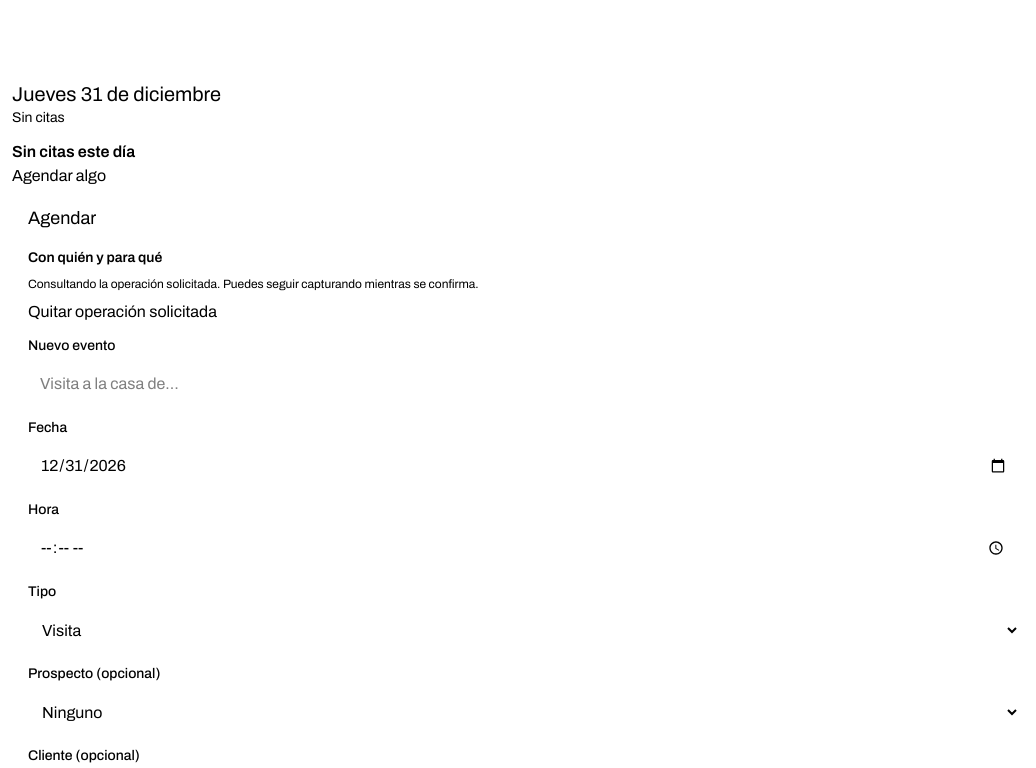
it: a failed URL expediente lookup exposes error retry and explicit withdrawal
The width and height of the screenshot is (1036, 768).
(page scrolled)
Type "Visita por recuperar" into the field labelled "Nuevo evento" at [524, 384], box x1=28 y1=362 x2=1020 y2=406
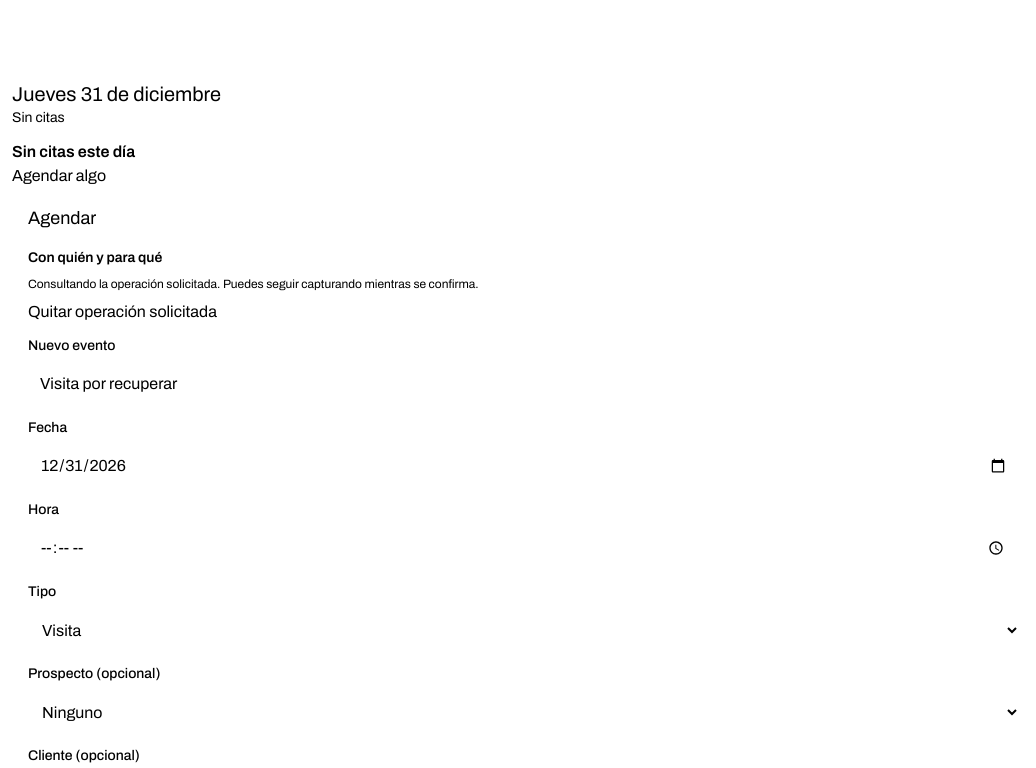
Type "2026-11-20" into the date field labelled "Fecha" at [524, 466], box x1=28 y1=444 x2=1020 y2=488
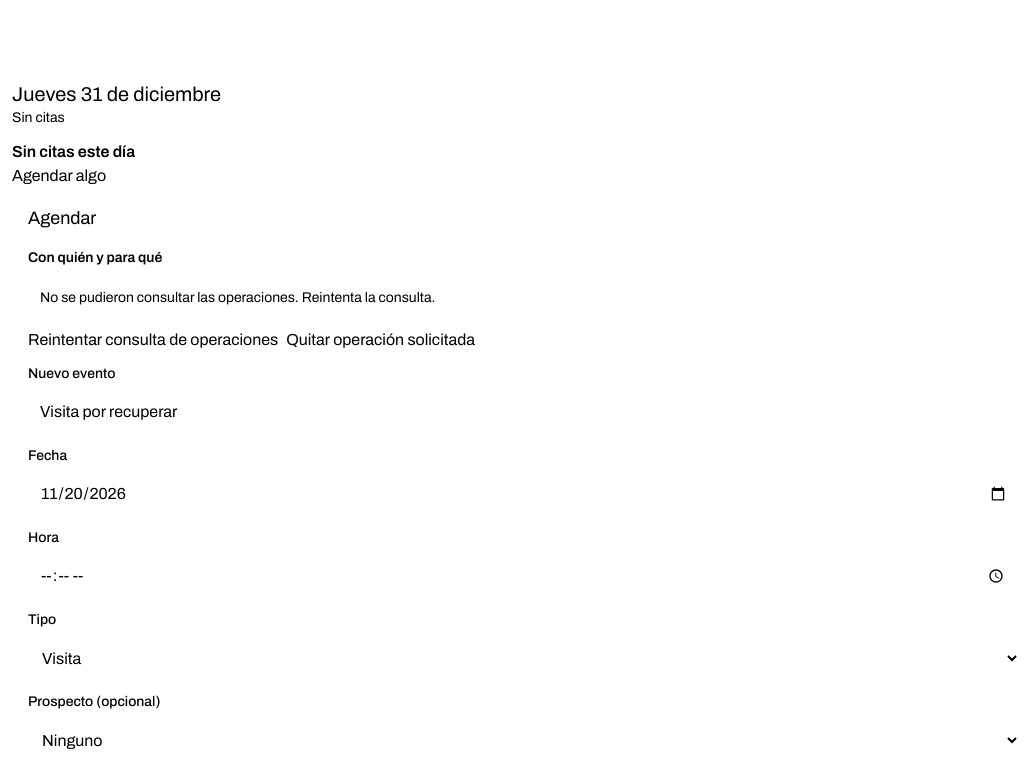
Expected: the button "Quitar operación solicitada" is shown, x1=286 y1=328 x2=475 y2=352
Now the message "No se pudieron consultar las operaciones. Reintenta la consulta." is shown, box x1=40 y1=290 x2=436 y2=305
Now the button "Reintentar consulta de operaciones" is shown, box x1=28 y1=328 x2=278 y2=352
